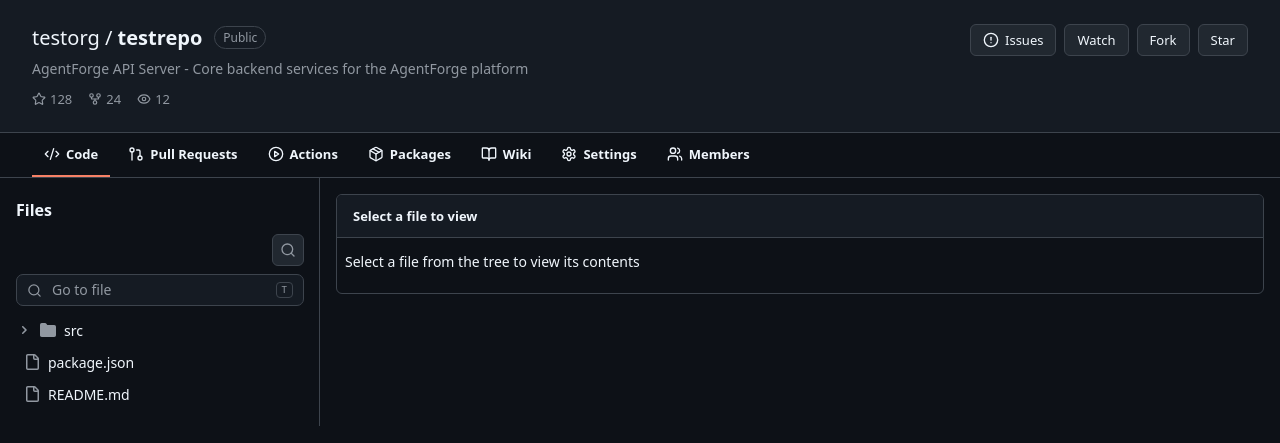
RepositoryDetailPage - Code Tab › loads and displays file content when a file is selected
Check: the text "README.md" is shown, box [48, 384, 130, 404]
Click the button "README.md": (89, 394) [16, 378, 304, 410]
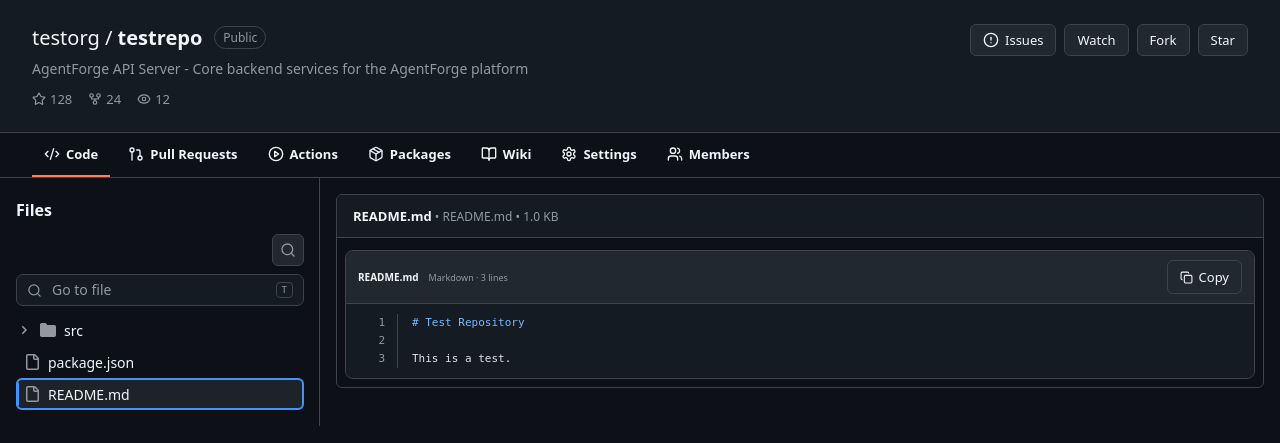
Check: the text "# Test Repository" is shown, box [412, 316, 525, 329]
